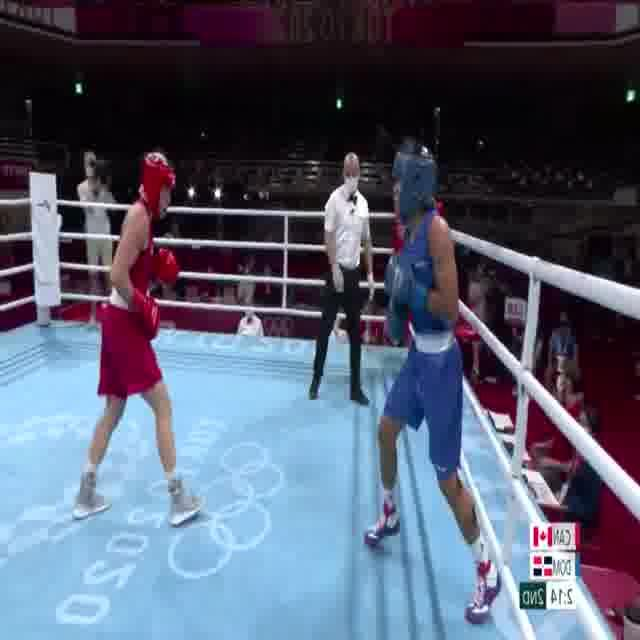blue-player: (361, 132, 502, 625)
red-player: (72, 146, 206, 530)
referee: (308, 147, 377, 410)
